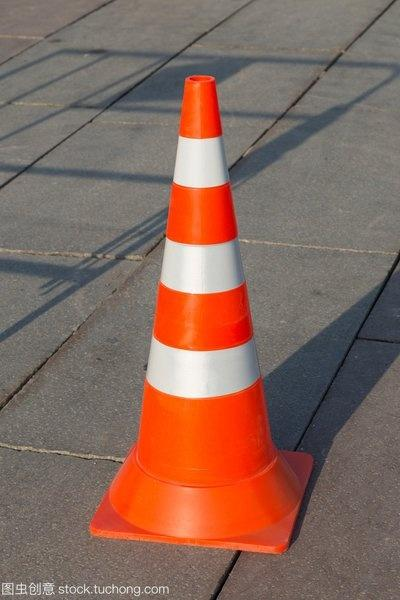cone_barrel: (112, 73, 292, 535)
